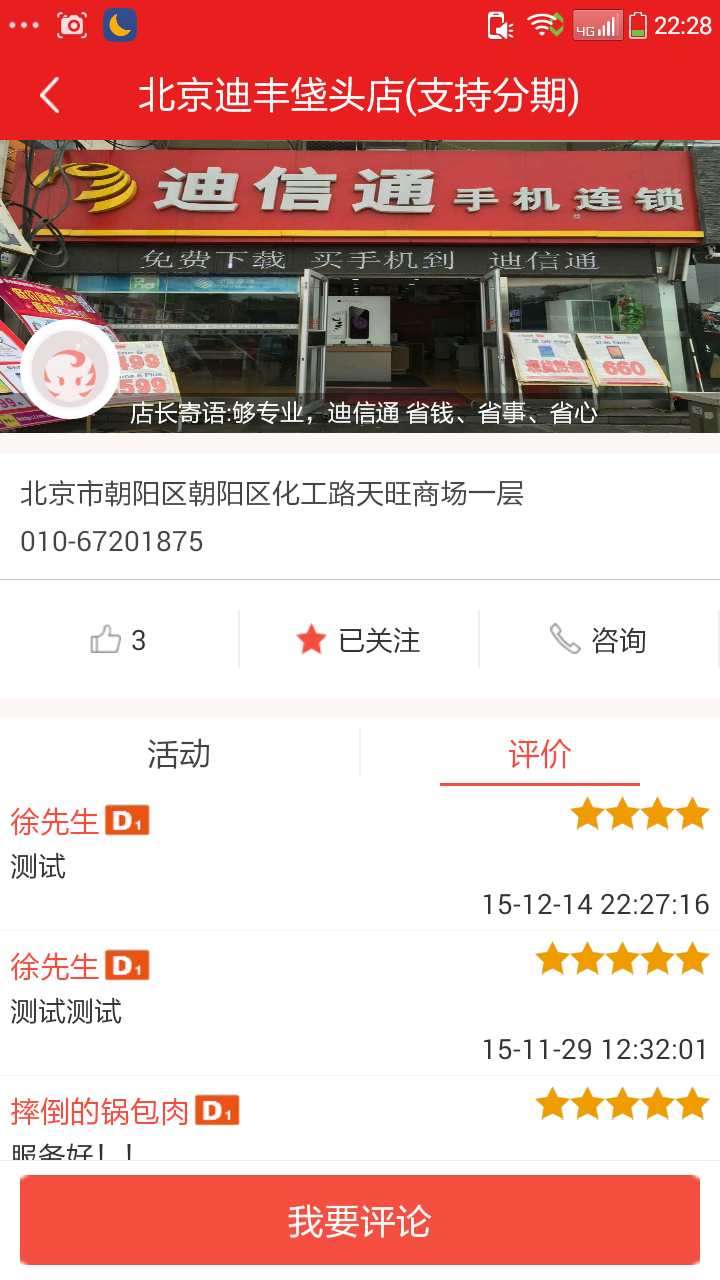button: (15, 1167, 710, 1273)
checkbox: (282, 603, 440, 666), (74, 609, 165, 663)
imgbutton: (542, 614, 650, 663)
imgview: (8, 137, 720, 427)
